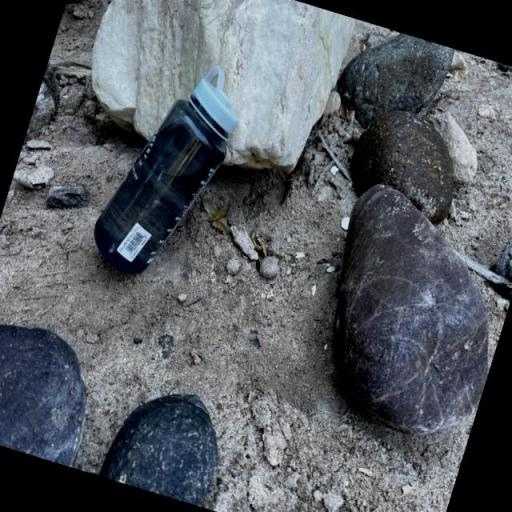bottle: (82, 47, 253, 297)
